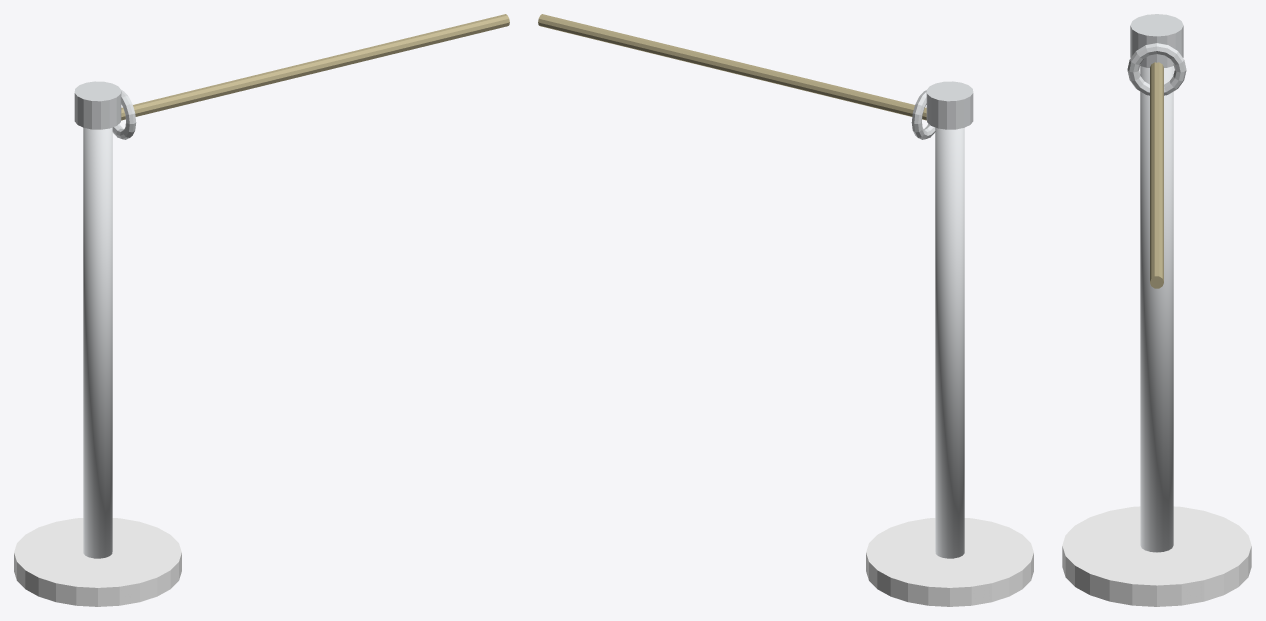
Rendered from hm_bank_stanchion_v2.glb.
The picture shows the model from 3 angles, left to right: view 1: azimuth 30°, elevation 25°; view 2: azimuth 150°, elevation 25°; view 3: azimuth 270°, elevation 25°; orthographic projection. The views are drawn at different scales.
Visible parts, largest first — view 1: ST_Pole, ST_Base, ST_Rope, ST_Head; view 2: ST_Pole, ST_Base, ST_Rope, ST_Head; view 3: ST_Base, ST_Pole, ST_Rope, ST_Head, ST_Hook.
Part boxes in pixels (bbox=[...]): ST_Pole: bbox=[83, 127, 112, 558]; ST_Base: bbox=[14, 518, 181, 606]; ST_Rope: bbox=[121, 14, 509, 120]; ST_Head: bbox=[74, 81, 121, 129]; ST_Pole: bbox=[935, 127, 964, 558]; ST_Base: bbox=[866, 518, 1033, 606]; ST_Rope: bbox=[538, 14, 926, 120]; ST_Head: bbox=[926, 81, 973, 129]; ST_Base: bbox=[1062, 506, 1251, 606]; ST_Pole: bbox=[1140, 66, 1173, 552]; ST_Rope: bbox=[1150, 62, 1163, 288]; ST_Head: bbox=[1130, 14, 1183, 67]; ST_Hook: bbox=[1127, 43, 1186, 95].
Size of the model in its own units: 1.06 by 1.01 by 0.32.
